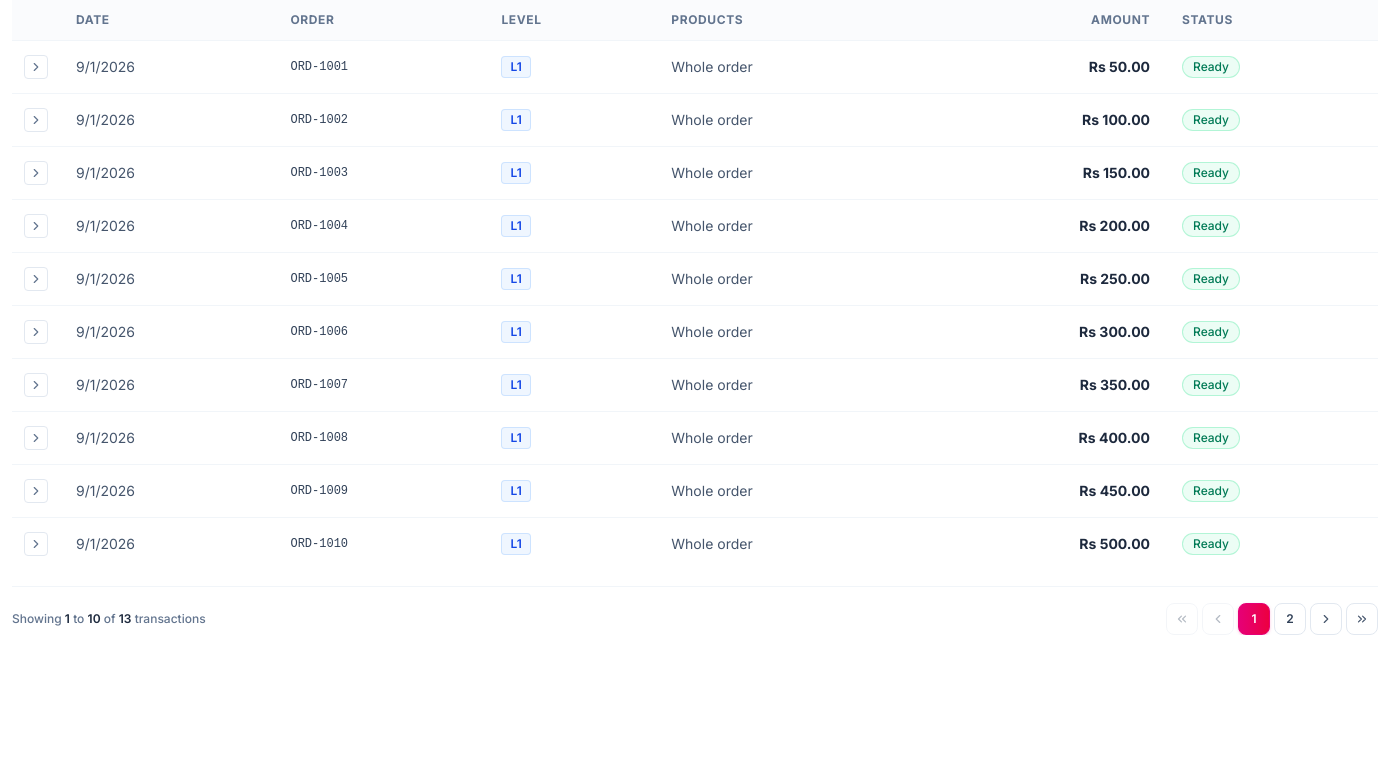
Test: CommissionTable Pagination › limits display to 10 commission entries and allows pagination
The image size is (1390, 768).
Expected: the text "ORD-1001" is shown, [274,40,486,94]
Expected: the text "ORD-1010" is shown, [274,518,486,570]
Click the button named "Page 2": {"x": 1290, "y": 619} [1274,603,1306,635]
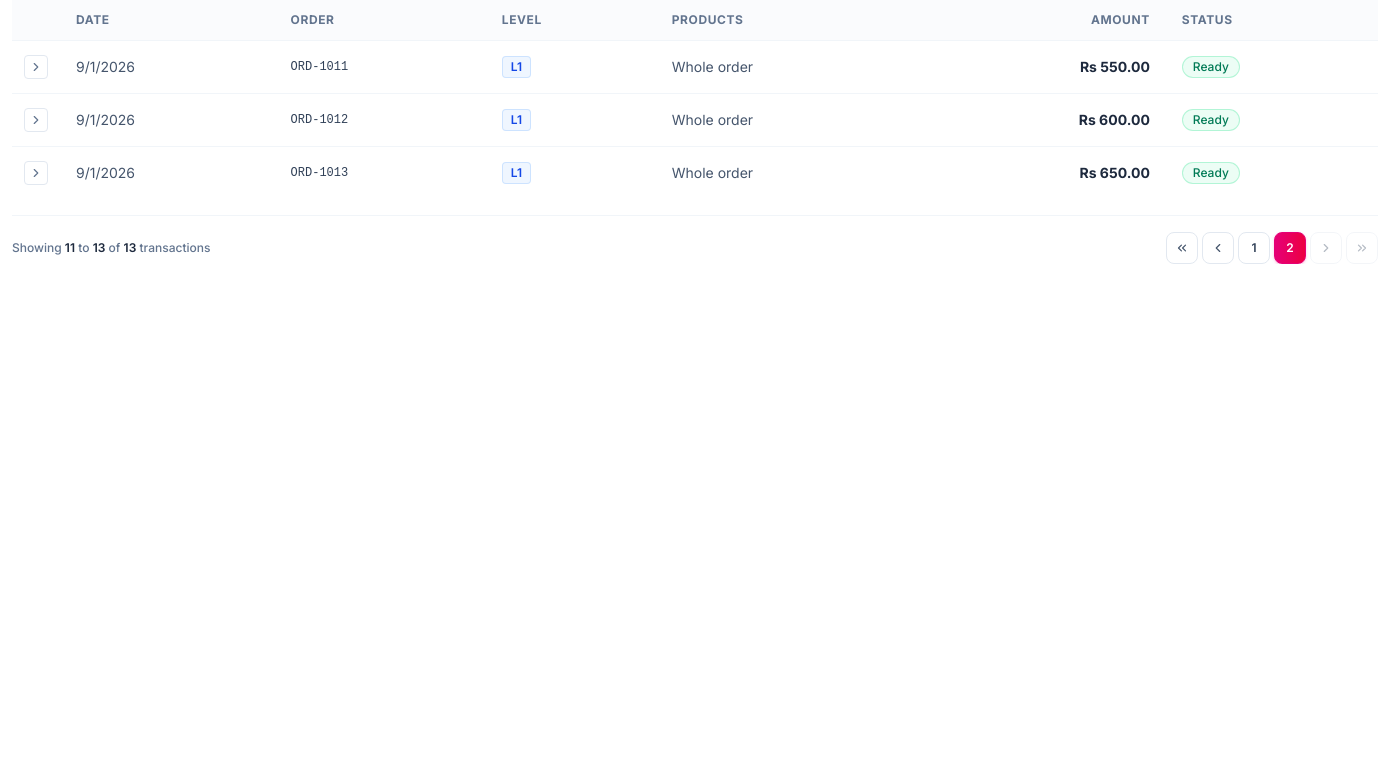
Expected: the text "ORD-1011" is shown, [275,40,486,94]
Expected: the text "ORD-1013" is shown, [275,146,486,199]
Expected: the text "ORD-1001" is gone
